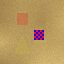structure: (14, 33, 30, 53)
vehicle: (17, 12, 28, 24)
